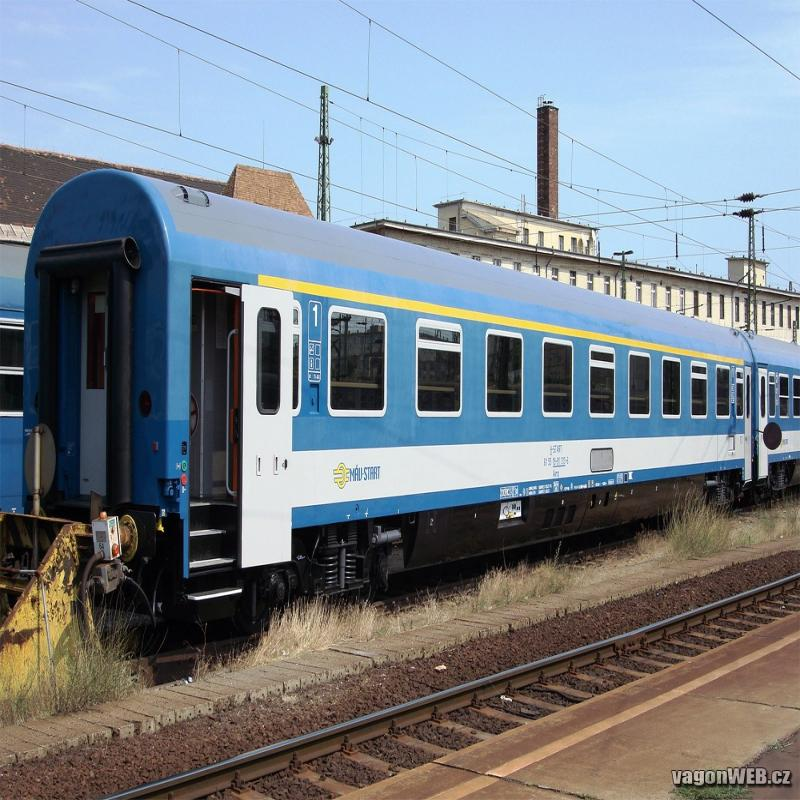train: (25, 166, 757, 645)
